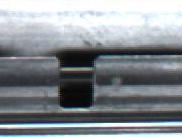oneu: (51, 49, 102, 113)
